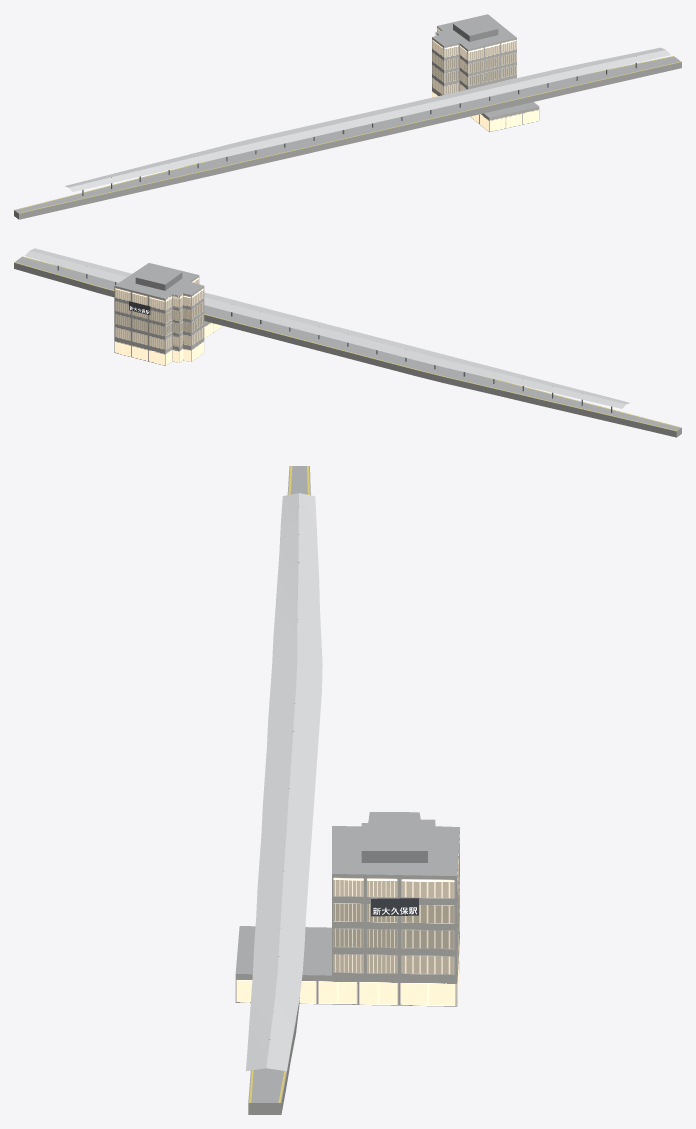
File: shinokubo_station.glb
3 renders of one model, top to bottom at view 1: azimuth 30°, elevation 25°; view 2: azimuth 150°, elevation 25°; view 3: azimuth 270°, elevation 25°, orthographic. The views are drawn at different scales.
Visible parts, largest first — view 1: OK_Station; view 2: OK_Station; view 3: OK_Station.
Boxes of the visible parts, box(x1,y1,x2,y2) form: OK_Station: box(14, 14, 681, 219); OK_Station: box(14, 248, 681, 437); OK_Station: box(235, 466, 459, 1114).
Bounding box in the file's own units: 227 × 23.7 × 33.85.
9 materials, 1 textured.
